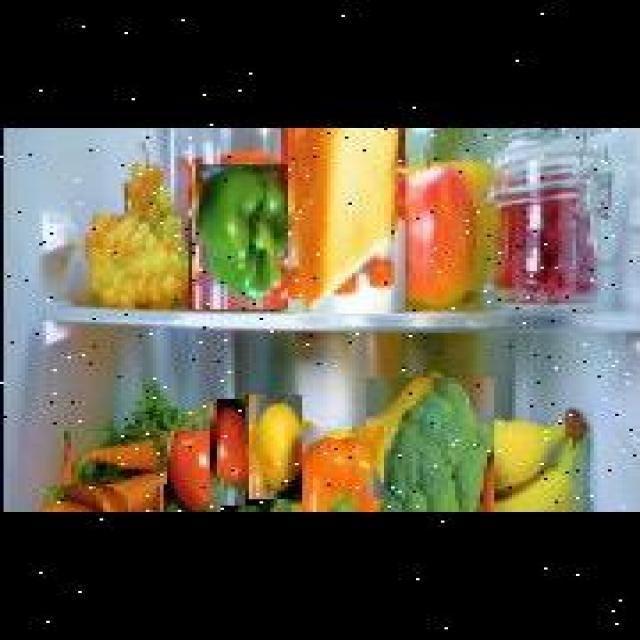apple: (392, 142, 486, 308)
bell_pepper: (188, 164, 284, 310), (280, 427, 380, 512)
broccoli: (366, 378, 494, 512)
carrot: (64, 430, 164, 484), (35, 486, 128, 512)
cheese: (280, 128, 406, 314)
lemon: (245, 394, 299, 500)
tomato: (204, 400, 254, 507), (156, 431, 217, 512)
